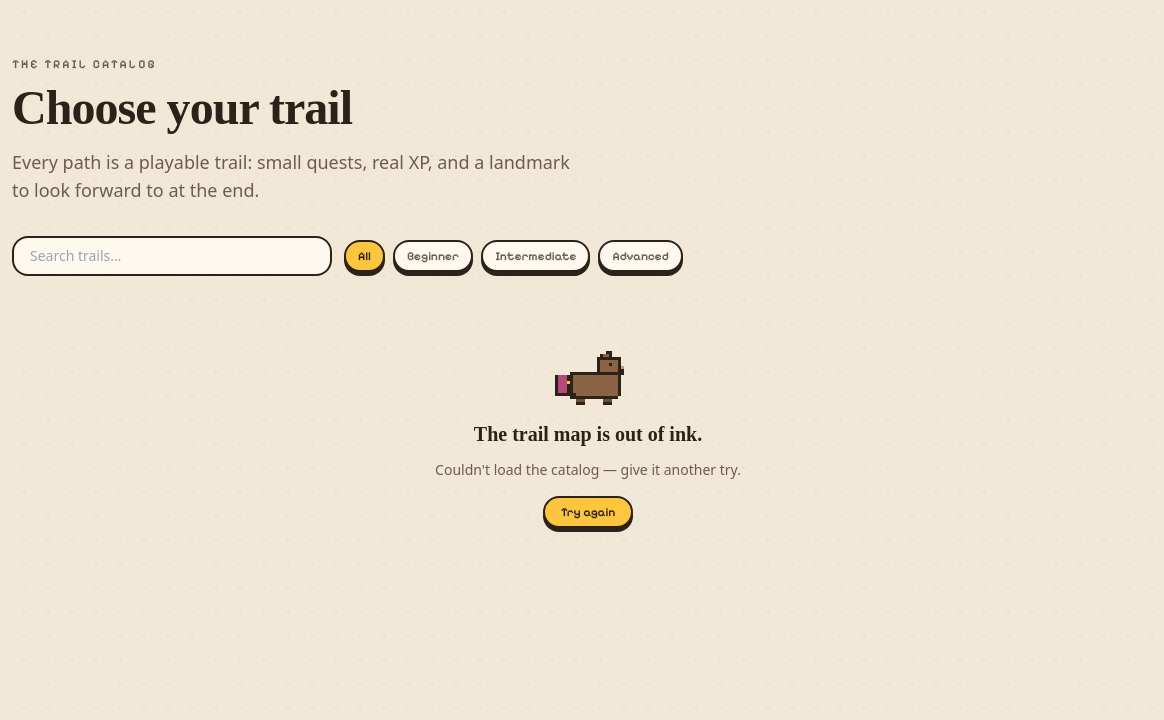
RoadmapCatalogPage › shows Biscuit and a working retry when the query fails
Check: the picture named "Biscuit" is shown, box [552, 348, 624, 408]
Click the button "Try again" at [588, 512], box [543, 496, 633, 528]
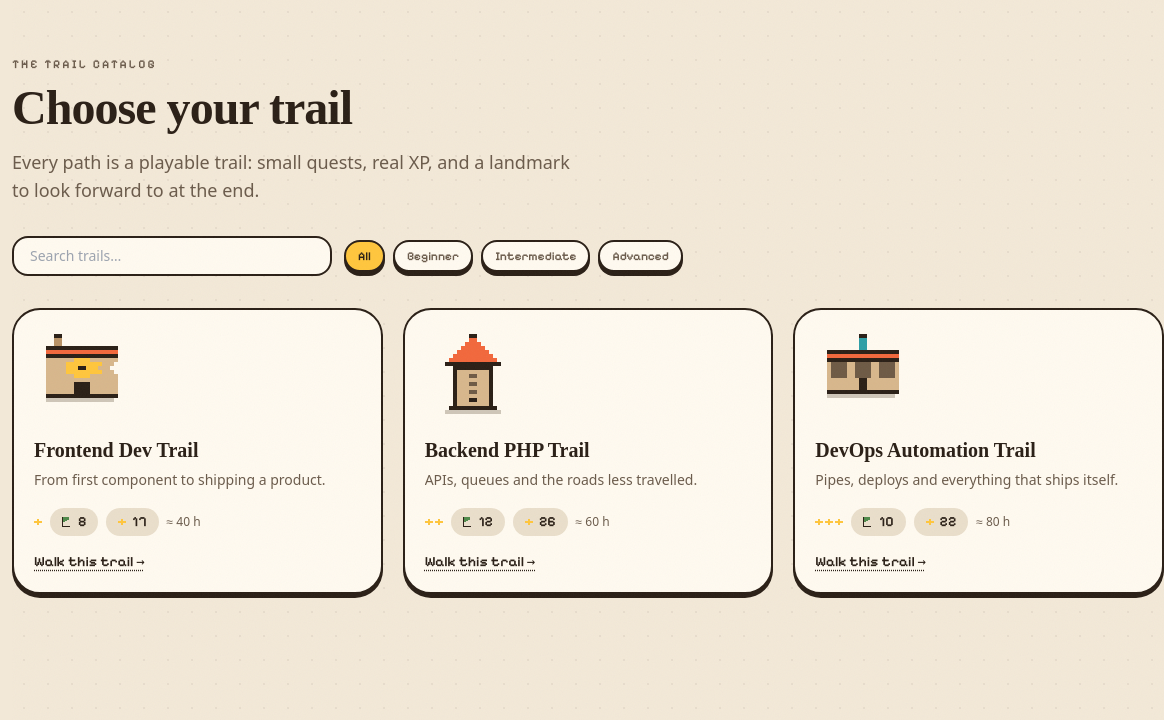
Check: the number of links named "Walk this trail" is 3, box [12, 308, 383, 594]; [403, 308, 773, 594]; [793, 308, 1163, 594]
